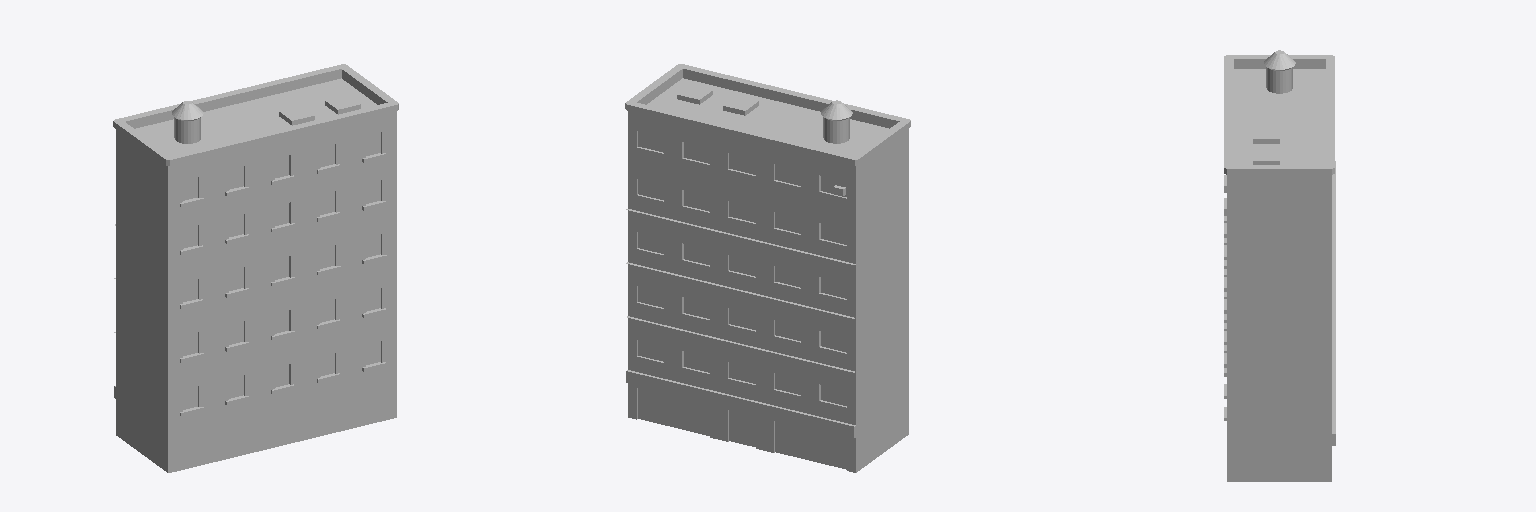
The model's file is large_building_f_tallest.obj.
The picture shows the model from 3 angles: view 1: azimuth 30°, elevation 25°; view 2: azimuth 150°, elevation 25°; view 3: azimuth 270°, elevation 25°; orthographic projection.
Visible parts, largest first — view 1: large_buildingF.001, large_buildingF.003, large_buildingF.004, large_buildingF.005, large_buildingF.002, large_buildingF; view 2: large_buildingF.001, large_buildingF.002, large_buildingF.004, large_buildingF.003, large_buildingF.005, large_buildingF; view 3: large_buildingF.001, large_buildingF.002, large_buildingF.005, large_buildingF.003, large_buildingF.004, large_buildingF.
Boxes of the visible parts, x1=… form: large_buildingF.001: x1=113, y1=64, x2=398, y2=210; large_buildingF.003: x1=114, y1=209, x2=396, y2=317; large_buildingF.004: x1=114, y1=263, x2=396, y2=371; large_buildingF.005: x1=115, y1=316, x2=396, y2=425; large_buildingF.002: x1=115, y1=155, x2=396, y2=263; large_buildingF: x1=114, y1=370, x2=396, y2=472; large_buildingF.001: x1=625, y1=64, x2=910, y2=209; large_buildingF.002: x1=626, y1=155, x2=908, y2=264; large_buildingF.004: x1=627, y1=264, x2=908, y2=372; large_buildingF.003: x1=626, y1=210, x2=908, y2=318; large_buildingF.005: x1=627, y1=318, x2=908, y2=426; large_buildingF: x1=626, y1=371, x2=908, y2=472; large_buildingF.001: x1=1224, y1=50, x2=1334, y2=218; large_buildingF.002: x1=1224, y1=161, x2=1335, y2=272; large_buildingF.005: x1=1224, y1=323, x2=1335, y2=433; large_buildingF.003: x1=1224, y1=216, x2=1335, y2=326; large_buildingF.004: x1=1224, y1=269, x2=1335, y2=379; large_buildingF: x1=1227, y1=434, x2=1335, y2=481.
Size of the model in its own units: 4.08 by 5.7 by 1.69.